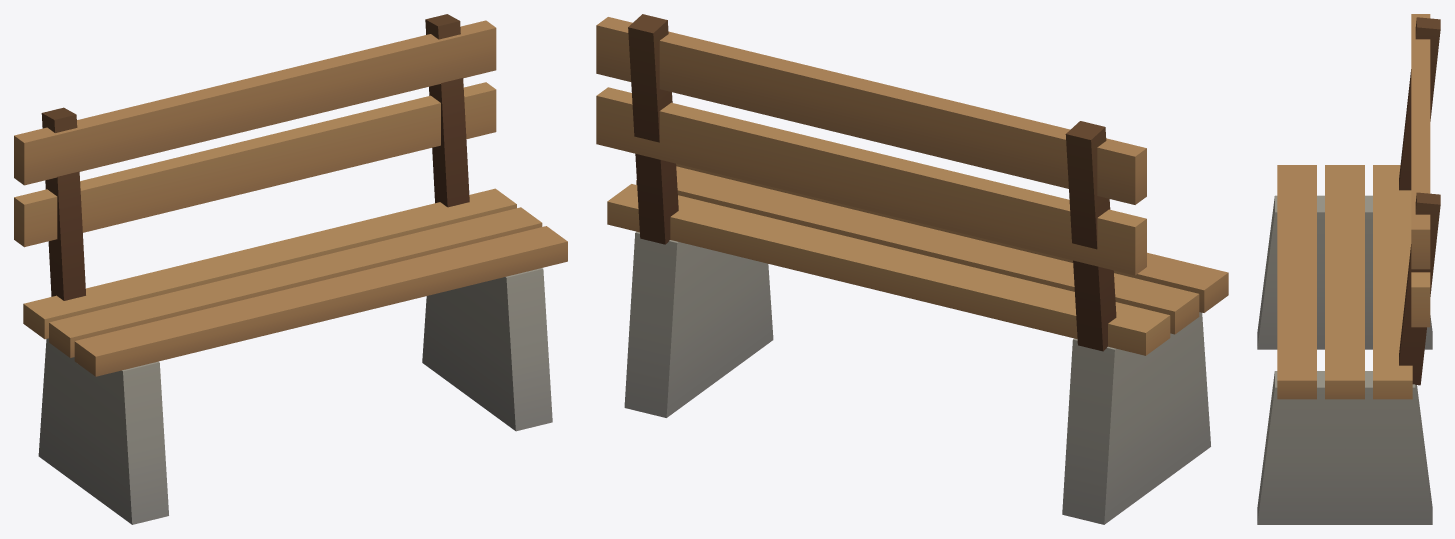
The model's file is bench.glb.
The picture shows the model from 3 angles, left to right: view 1: azimuth 30°, elevation 25°; view 2: azimuth 150°, elevation 25°; view 3: azimuth 270°, elevation 25°; orthographic projection. The views are drawn at different scales.
Visible parts, largest first — view 1: bench; view 2: bench; view 3: bench.
Part boxes in pixels (x1=…): bench: x1=14, y1=14, x2=567, y2=524; bench: x1=596, y1=14, x2=1228, y2=524; bench: x1=1257, y1=14, x2=1440, y2=524.
Size of the model in its own units: 6.4 by 4.41 by 2.3.
1 material, 1 textured.
